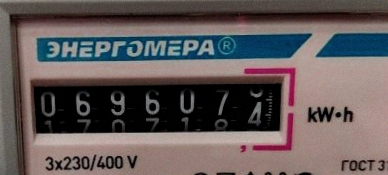0: (177, 85, 196, 115), (38, 89, 56, 117)
4: (246, 99, 262, 127)
6: (73, 87, 92, 116), (142, 87, 161, 116)
7: (213, 86, 230, 116)
9: (108, 88, 125, 116)
screen: (16, 60, 301, 151)
